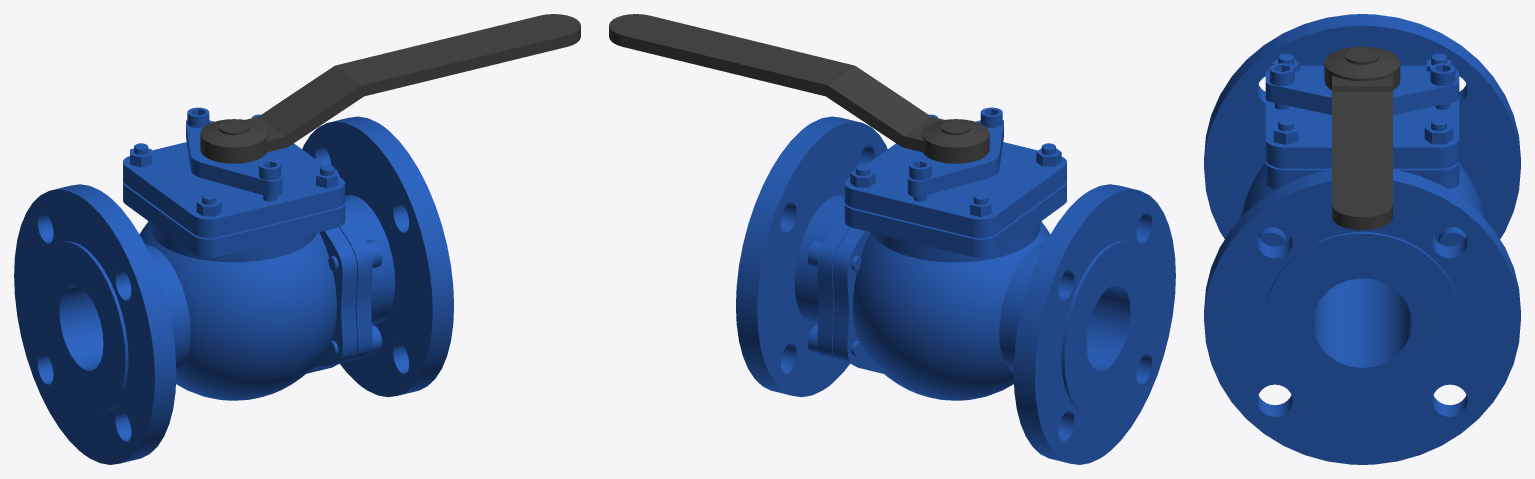
Rendered from 手动球阀.glb.
3 renders of one model, left to right at view 1: azimuth 30°, elevation 25°; view 2: azimuth 150°, elevation 25°; view 3: azimuth 270°, elevation 25°, orthographic. The views are drawn at different scales.
Parts seen in each view (by area): view 1: 手动球阀.SLDPRT; view 2: 手动球阀.SLDPRT; view 3: 手动球阀.SLDPRT.
Boxes of the visible parts, box(x1,y1,x2,y2) form: 手动球阀.SLDPRT: box(14, 14, 580, 464); 手动球阀.SLDPRT: box(609, 14, 1175, 464); 手动球阀.SLDPRT: box(1204, 14, 1520, 464).
Size of the model in its own units: 0.3249 by 0.1973 by 0.16.
